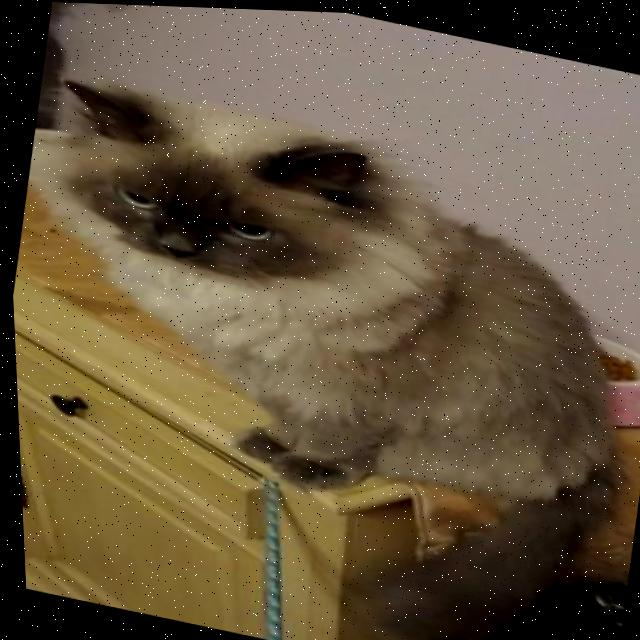Ragdoll: (2, 52, 640, 640)
